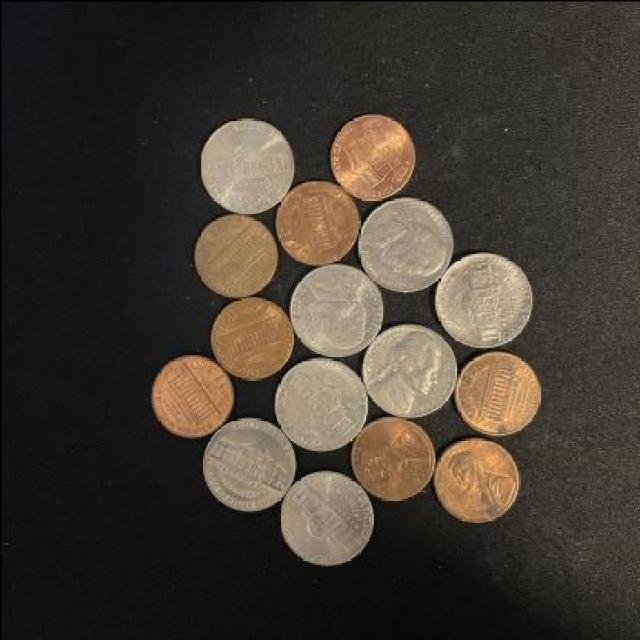Nickel: (431, 249, 534, 348), (358, 322, 457, 420), (356, 194, 454, 292), (277, 468, 372, 566), (198, 115, 292, 214), (198, 416, 296, 510), (289, 260, 382, 358), (272, 356, 368, 450)
Penny: (208, 294, 294, 382), (454, 348, 540, 436), (432, 435, 518, 523), (192, 212, 278, 298), (328, 112, 414, 196), (274, 178, 357, 264), (148, 354, 232, 437), (350, 417, 432, 500)
